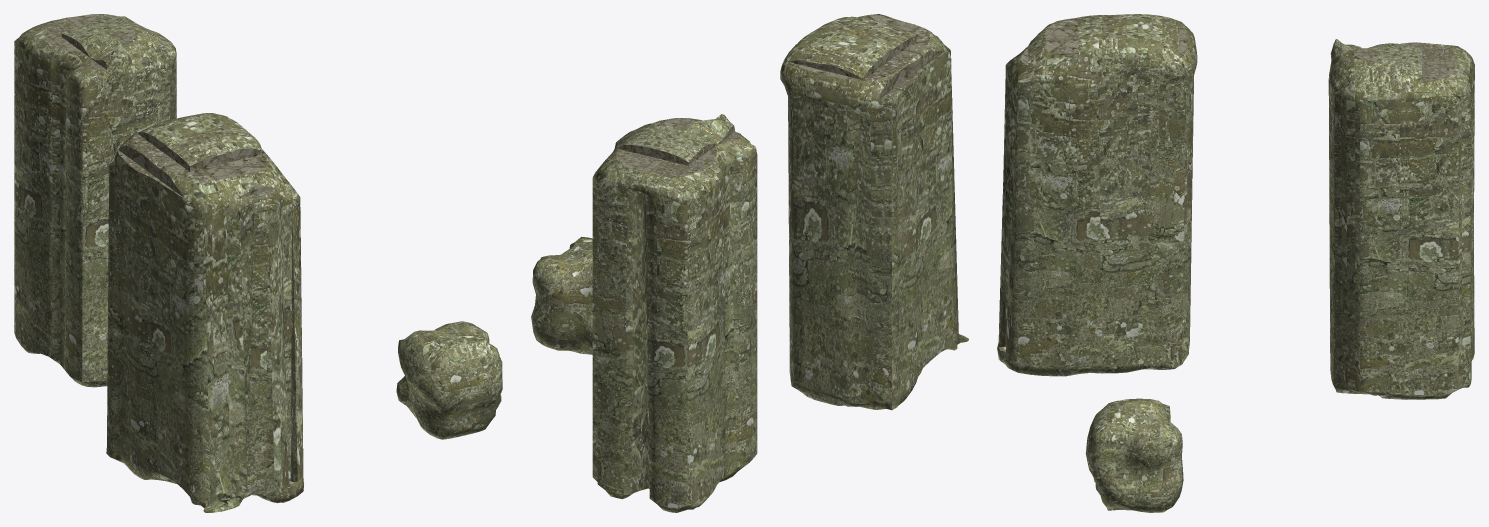
The model's file is SM_Chateaux_04_00.fbx.
3 renders of one model, left to right at view 1: azimuth 30°, elevation 25°; view 2: azimuth 150°, elevation 25°; view 3: azimuth 270°, elevation 25°, orthographic. The views are drawn at different scales.
Parts seen in each view (by area): view 1: SM_Chateaux_04_00; view 2: SM_Chateaux_04_00; view 3: SM_Chateaux_04_00.
Boxes of the visible parts, x1=… form: SM_Chateaux_04_00: x1=14, y1=14, x2=502, y2=512; SM_Chateaux_04_00: x1=531, y1=14, x2=968, y2=512; SM_Chateaux_04_00: x1=997, y1=14, x2=1474, y2=512.
Size of the model in its own units: 2381 by 2286 by 2758.
